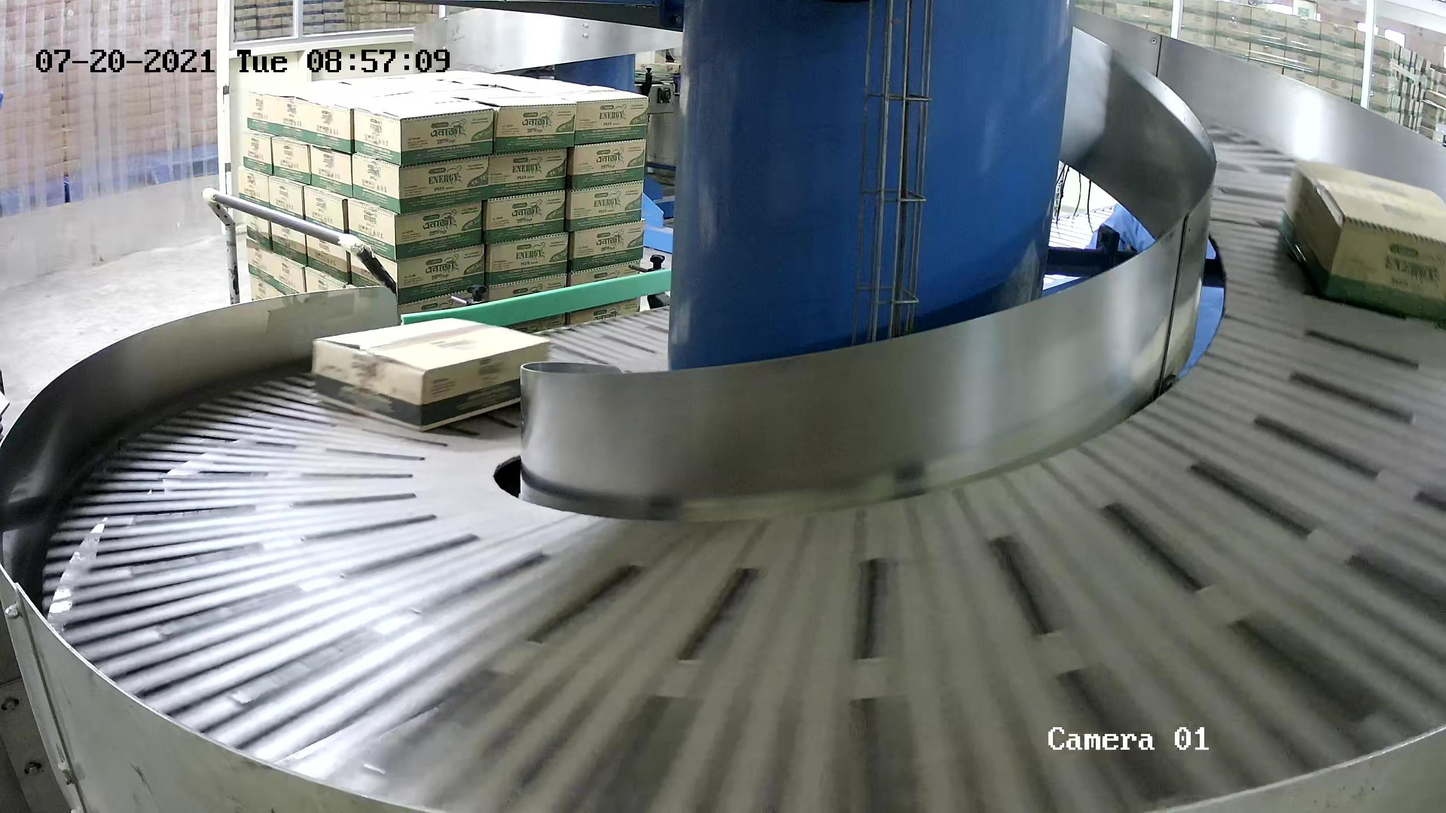Box: (1275, 157, 1446, 322), (311, 316, 550, 433)
